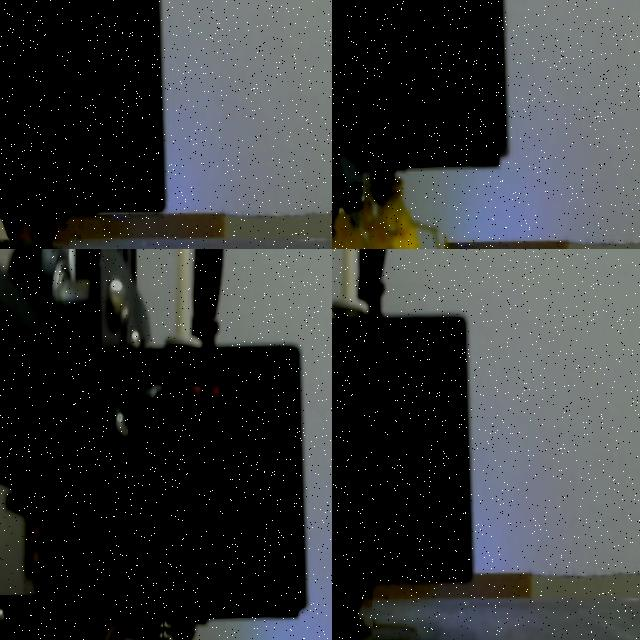spaghetti: (332, 187, 418, 249), (332, 590, 373, 640), (13, 221, 61, 249)
